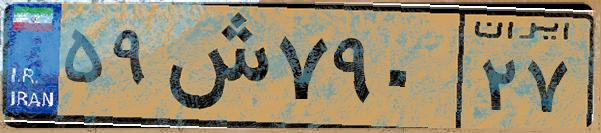0: (385, 28, 445, 110)
2: (475, 38, 525, 113)
5: (57, 26, 110, 100)
7: (270, 28, 330, 110), (525, 38, 570, 115)
9: (330, 28, 385, 110), (110, 28, 158, 98)
ش: (158, 12, 270, 120)
